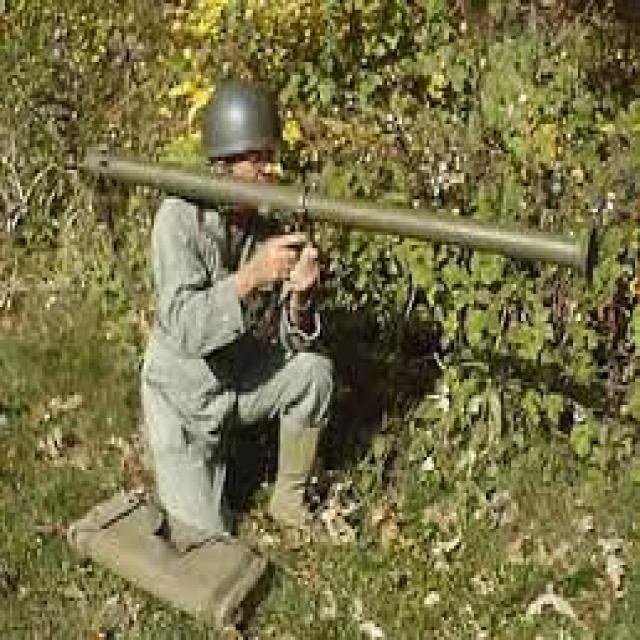bazooka: (54, 119, 635, 318)
